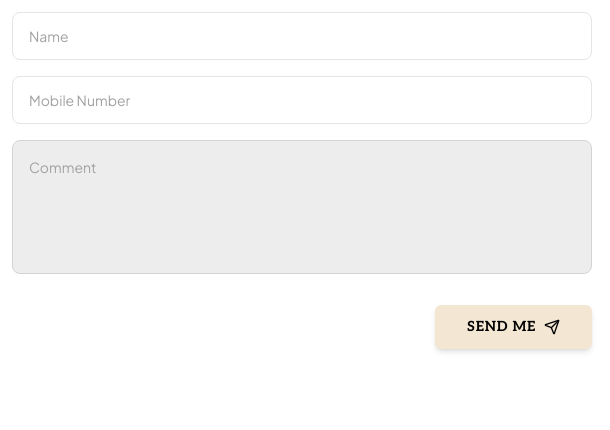
ContactForm › clears error when typing into an input field
Click the button "Send Me" at x=514, y=327, box [435,305,592,349]
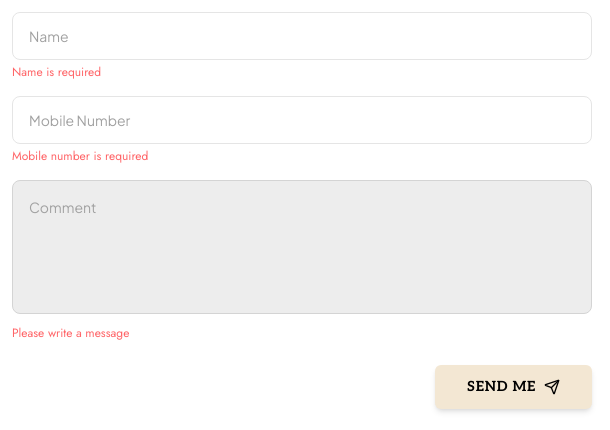
Check: the text "Name is required" is shown, box [12,63,101,81]
Type "Pavan" into the field with placeholder "Name" at x=302, y=36, box [12,12,592,60]
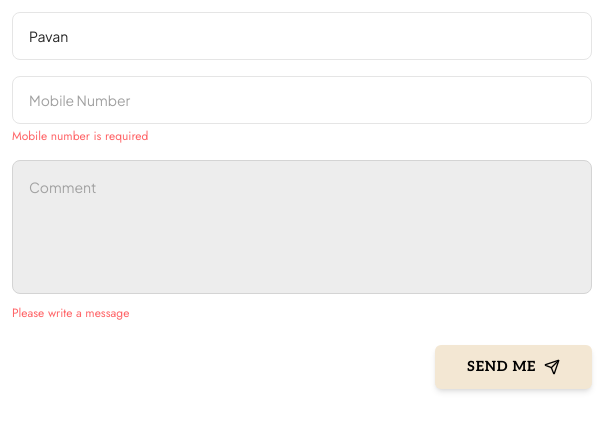
Check: the text "Name is required" is gone
